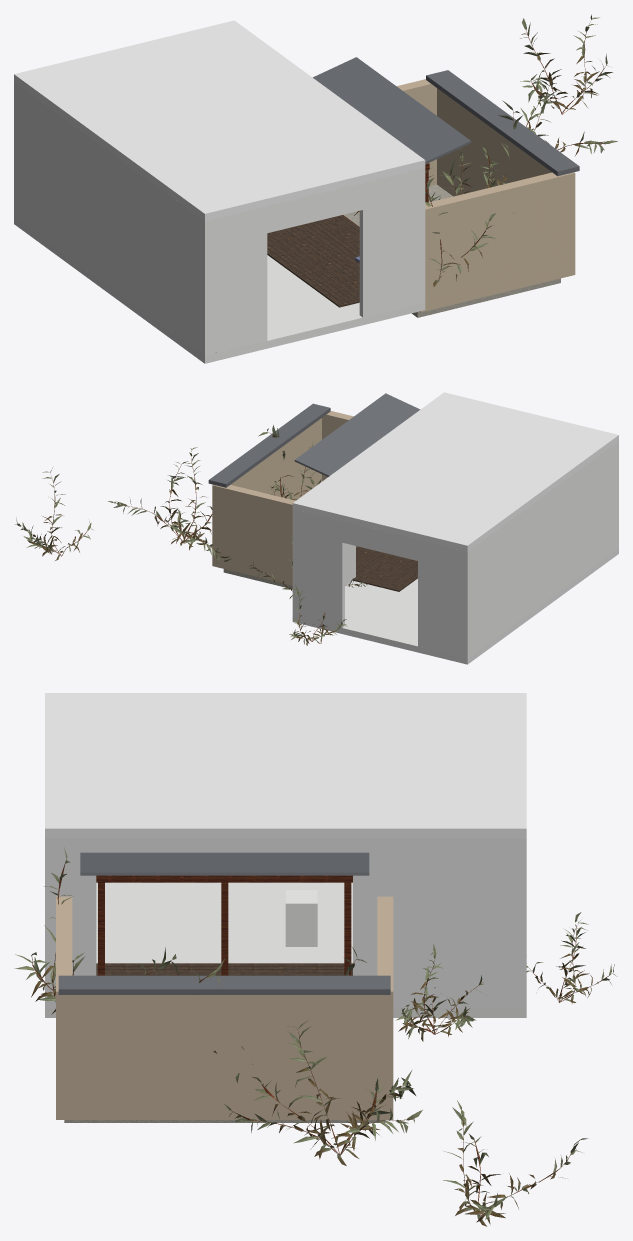
File: room_engawa_s3.glb
The picture shows the model from 3 angles, top to bottom: view 1: azimuth 30°, elevation 25°; view 2: azimuth 150°, elevation 25°; view 3: azimuth 270°, elevation 25°; orthographic projection. The views are drawn at different scales.
Visible parts, largest first — view 1: room_engawa_s3_static; view 2: room_engawa_s3_static; view 3: room_engawa_s3_static.
Part boxes in pixels (bbox=[...]): room_engawa_s3_static: bbox=[14, 14, 617, 363]; room_engawa_s3_static: bbox=[15, 392, 618, 664]; room_engawa_s3_static: bbox=[14, 693, 617, 1226].
Bounding box in the file's own units: 15.96 × 4.58 × 11.31.
Materials: 19 (7 with a texture image).
